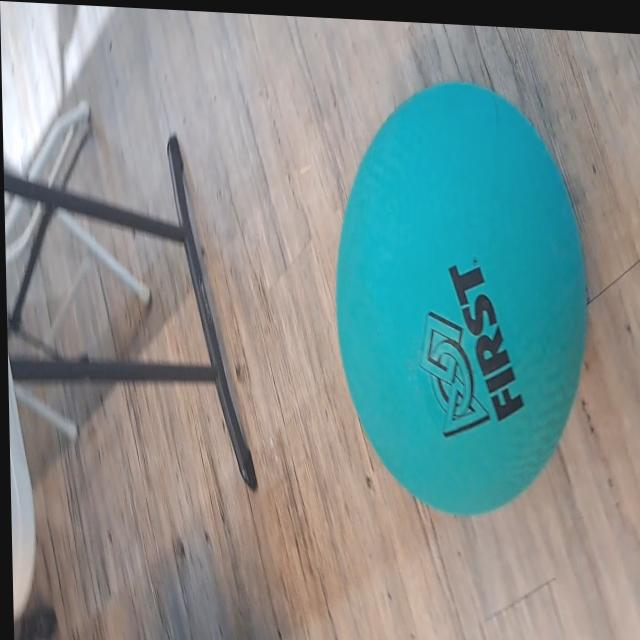ALGAE: (328, 72, 594, 525)
